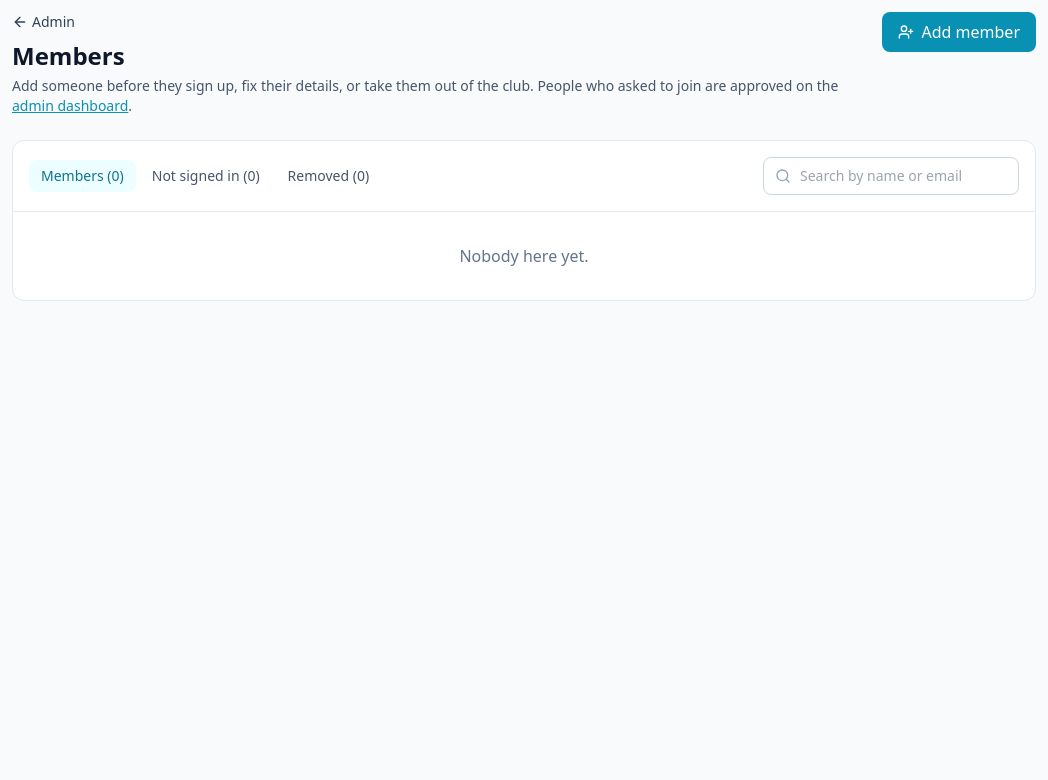
Test: adding a member › adds them and says what has to happen next
The width and height of the screenshot is (1048, 780).
Click the button "Add member" at (959,32), box [882, 12, 1036, 52]
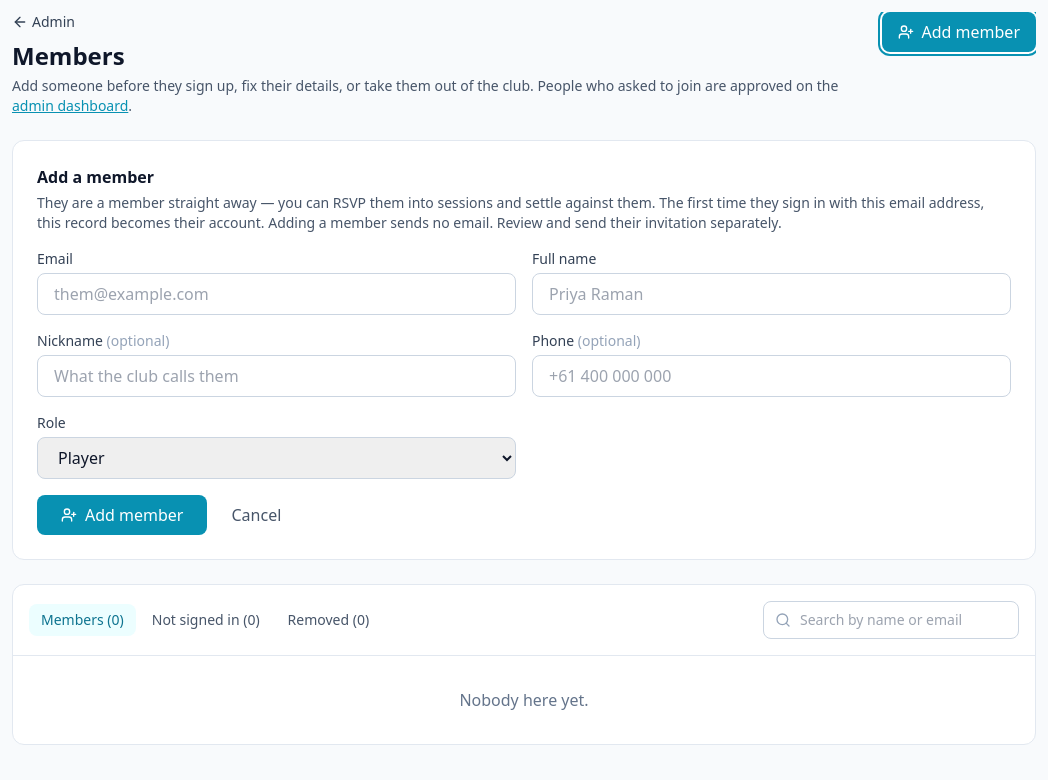
Type "invited@example.com" into the field labelled "Email" at (276,294), box [37, 273, 516, 315]
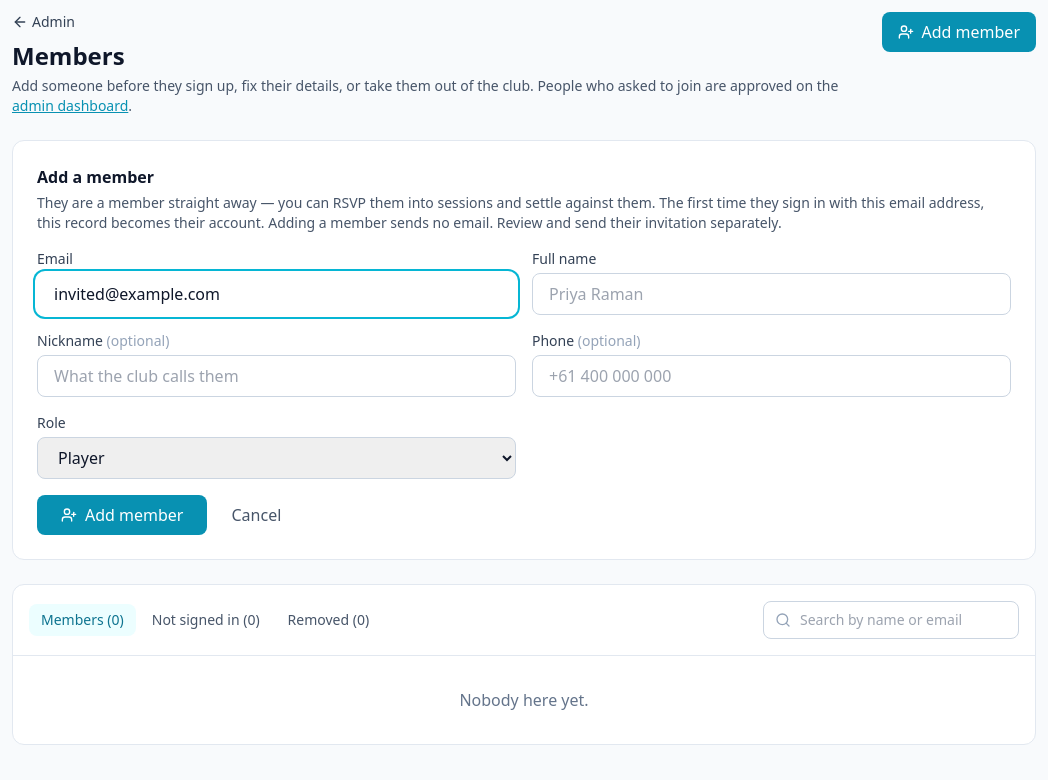
Type "Not Yet Here" into the field labelled "Full name" at (772,294), box [532, 273, 1011, 315]
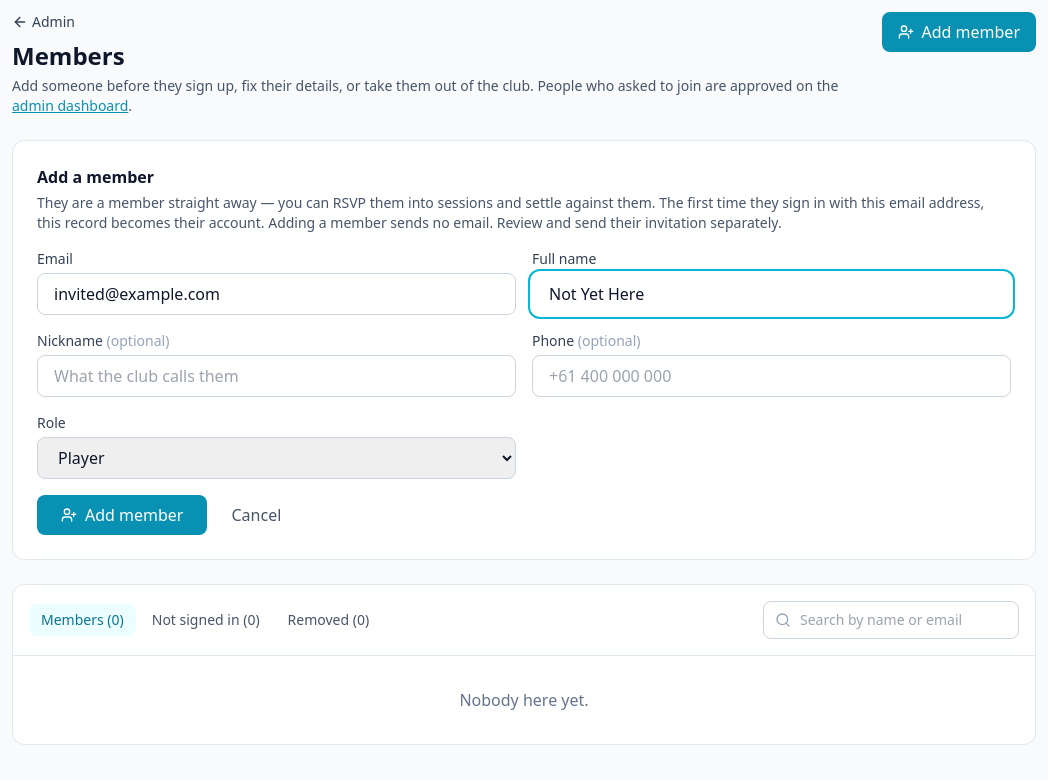
Type "Wei" into the field labelled "Nickname (optional)" at (276,376), box [37, 355, 516, 397]
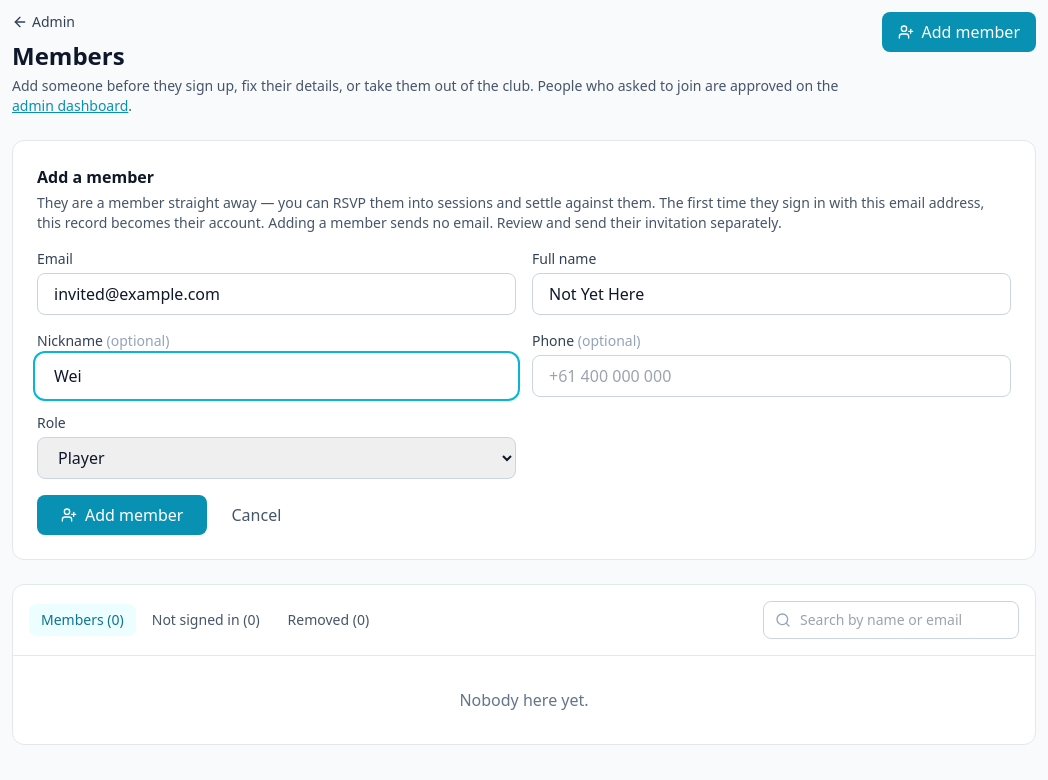
Click the button "Add member" below "Role" at (122,515), box [37, 495, 208, 535]
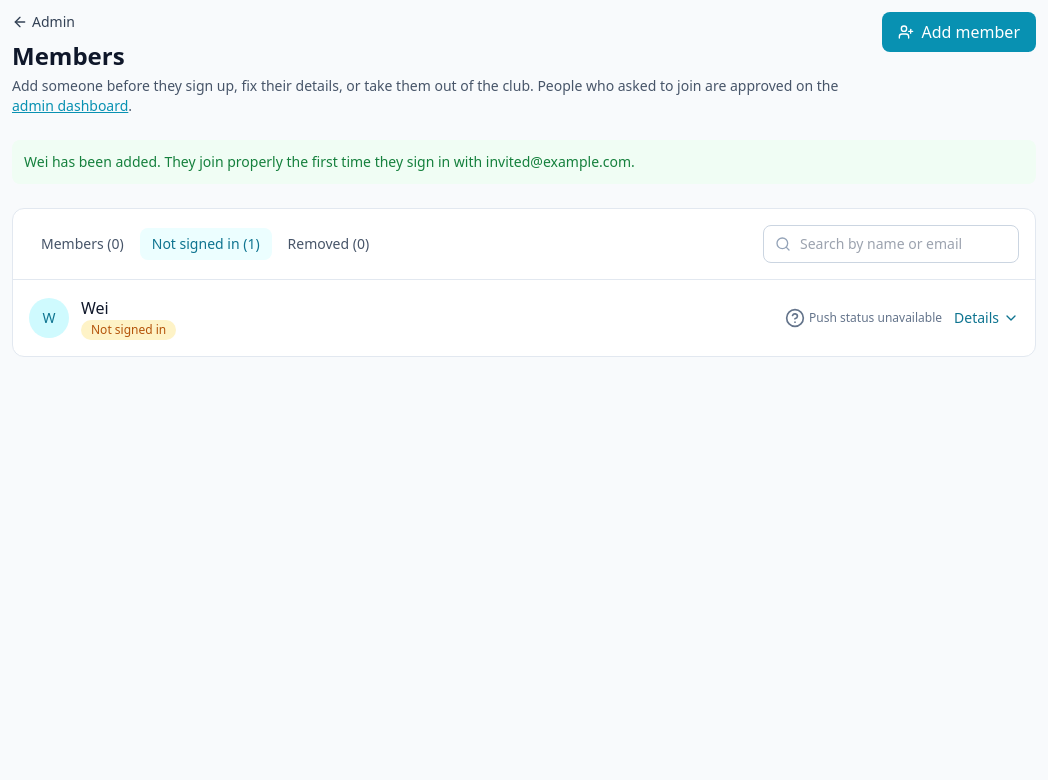
Now the message shows "invited@example.com", box [24, 152, 635, 171]
